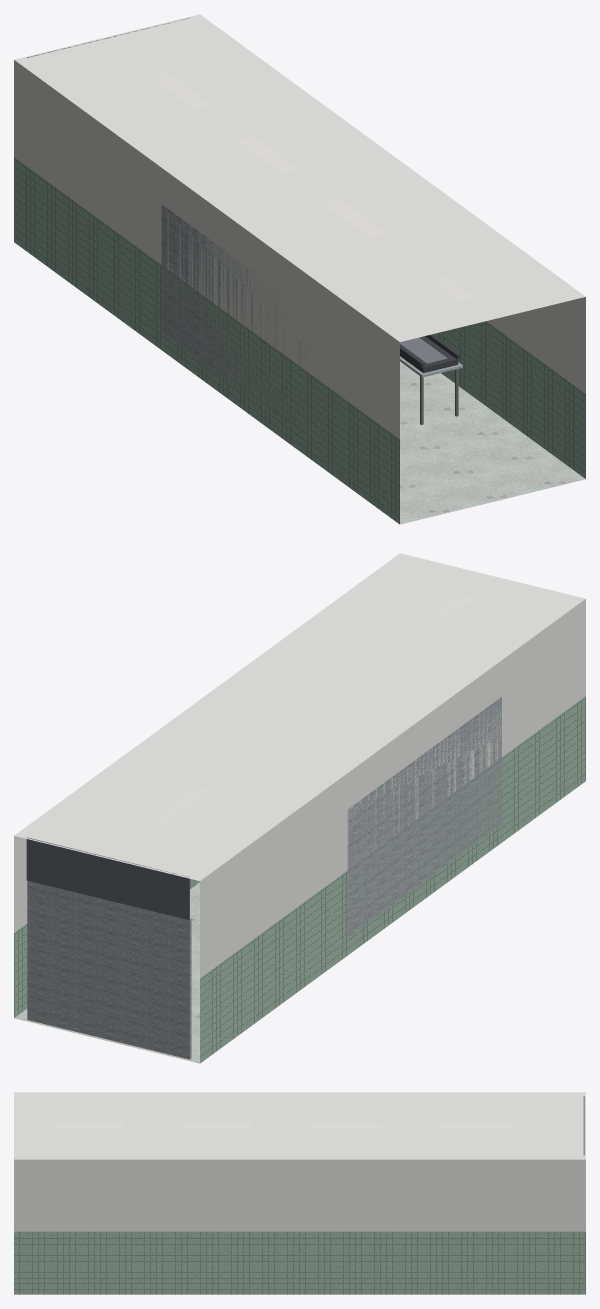
File: iml.glb
The picture shows the model from 3 angles, top to bottom: view 1: azimuth 30°, elevation 25°; view 2: azimuth 150°, elevation 25°; view 3: azimuth 270°, elevation 25°; orthographic projection. The views are drawn at different scales.
Visible parts, largest first — view 1: Lapa_plaster_white, Lapa_iml_tile, Lapa_lino, Lapa_steel, Lapa_fixture, Lapa_bag; view 2: Lapa_plaster_white, Lapa_steel, Lapa_iml_tile, Lapa_dark, Lapa_lino, Lapa_fixture; view 3: Lapa_plaster_white, Lapa_iml_tile, Lapa_fixture.
Boxes of the visible parts, box(x1,y1,x2,y2) form: Lapa_plaster_white: box(14, 14, 585, 439); Lapa_iml_tile: box(14, 157, 585, 524); Lapa_lino: box(400, 361, 585, 524); Lapa_steel: box(161, 204, 462, 441); Lapa_fixture: box(149, 72, 473, 301); Lapa_bag: box(400, 334, 459, 373); Lapa_plaster_white: box(14, 553, 585, 978); Lapa_steel: box(27, 697, 501, 1059); Lapa_iml_tile: box(14, 696, 585, 1063); Lapa_dark: box(26, 837, 189, 919); Lapa_lino: box(14, 882, 199, 1063); Lapa_fixture: box(149, 593, 474, 823); Lapa_plaster_white: box(14, 1092, 585, 1231); Lapa_iml_tile: box(14, 1231, 585, 1294); Lapa_fixture: box(53, 1122, 511, 1128).
Bounding box in the file's own units: 3.2 × 3 × 11.5.
12 materials, 3 textured.
